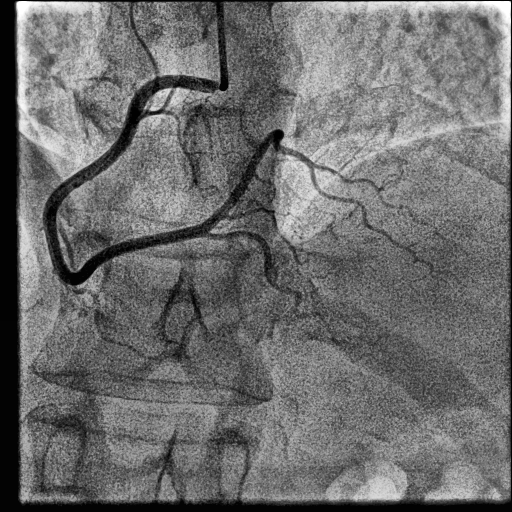pborca: (204, 130, 418, 261)
pda: (205, 231, 327, 326)
rca: (42, 75, 216, 285)
